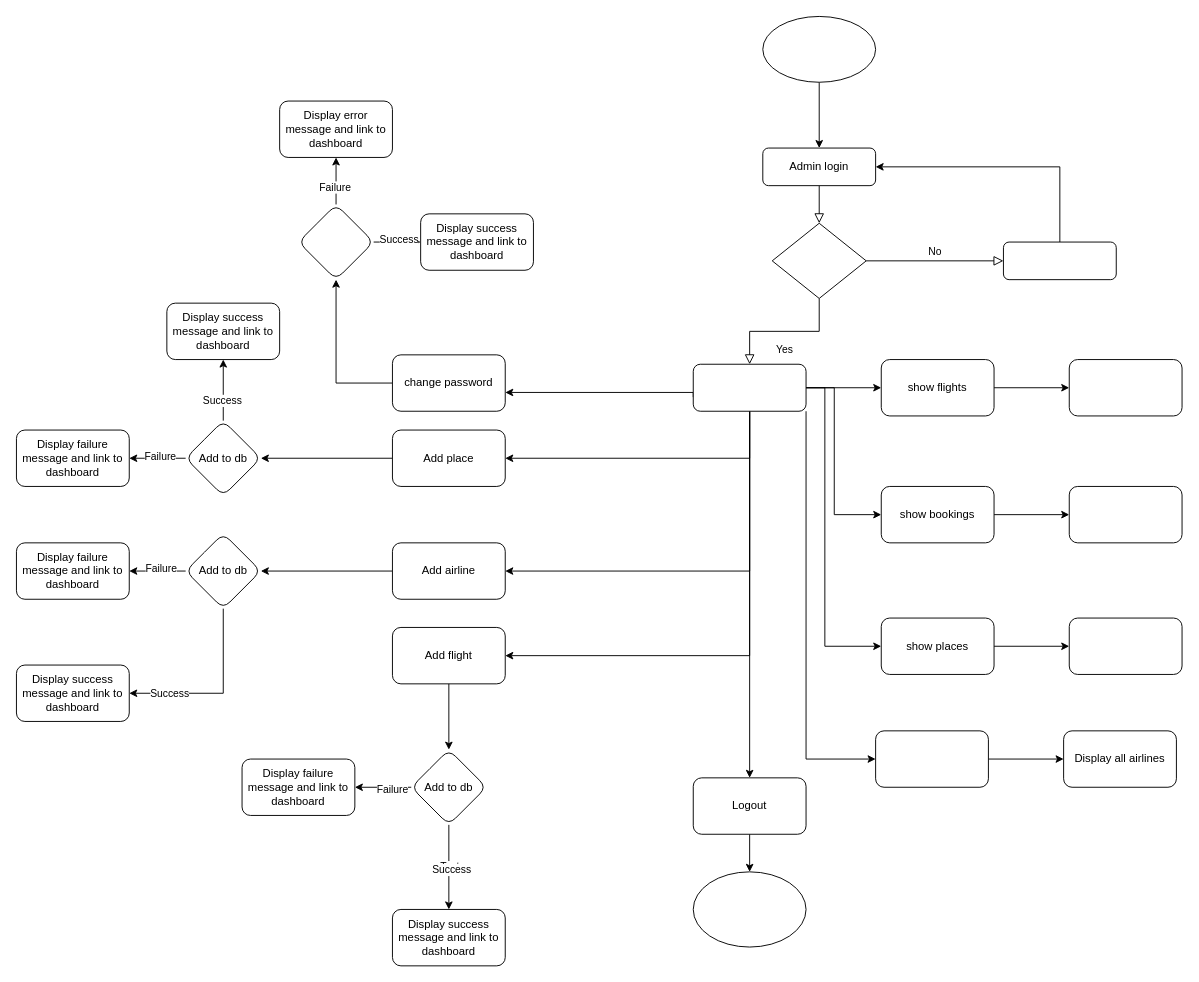
Image size: 1199x982. Some labels were removed from this diagram. The shapes that lost their labels are listed below. From the top down, each one's centre as x and y in pixels, then its label:
(819,49): Start
(336,242): Update in db
(818,260): Valid details?
(1059,260): Display error message and provide link to home page
(749,387): Display actions
(1125,387): Display all flight details
(1125,514): Display all booking details
(1125,645): Display all places
(931,758): show airlines
(749,909): stop
